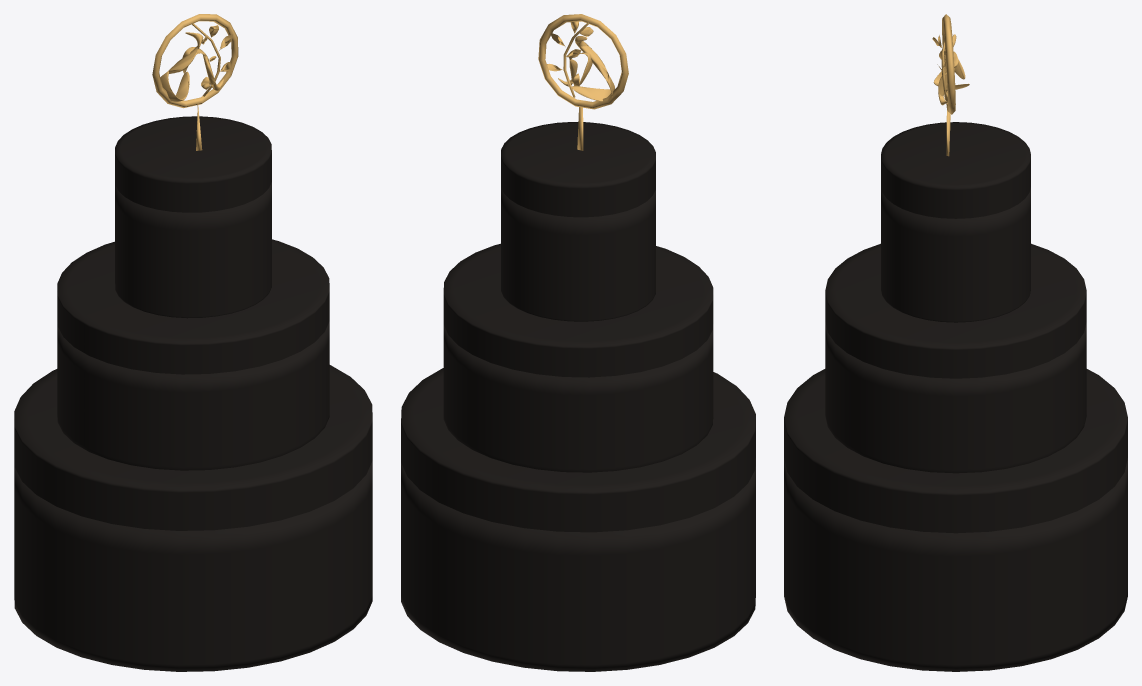
The model's file is 3-tier-black-none-ring.glb.
3 views of the same model, side by side, from view 1: azimuth 30°, elevation 25°; view 2: azimuth 150°, elevation 25°; view 3: azimuth 270°, elevation 25° (orthographic).
Parts seen in each view (by area): view 1: Cylinder.022, Cylinder.014, Cylinder.021, Cylinder.020; view 2: Cylinder.022, Cylinder.014, Cylinder.021, Cylinder.020; view 3: Cylinder.022, Cylinder.014, Cylinder.021, Cylinder.020.
Part boxes in pixels (x1,y1,x2,y2): Cylinder.022: (14, 365, 372, 671); Cylinder.014: (57, 239, 329, 470); Cylinder.021: (115, 116, 271, 318); Cylinder.020: (152, 14, 238, 150); Cylinder.022: (401, 368, 755, 671); Cylinder.014: (443, 243, 713, 472); Cylinder.021: (501, 122, 655, 321); Cylinder.020: (538, 14, 628, 150); Cylinder.022: (784, 369, 1127, 671); Cylinder.014: (825, 243, 1086, 473); Cylinder.021: (881, 122, 1030, 322); Cylinder.020: (932, 14, 969, 156).
Size of the model in its own units: 4.22 by 7.52 by 4.06.
